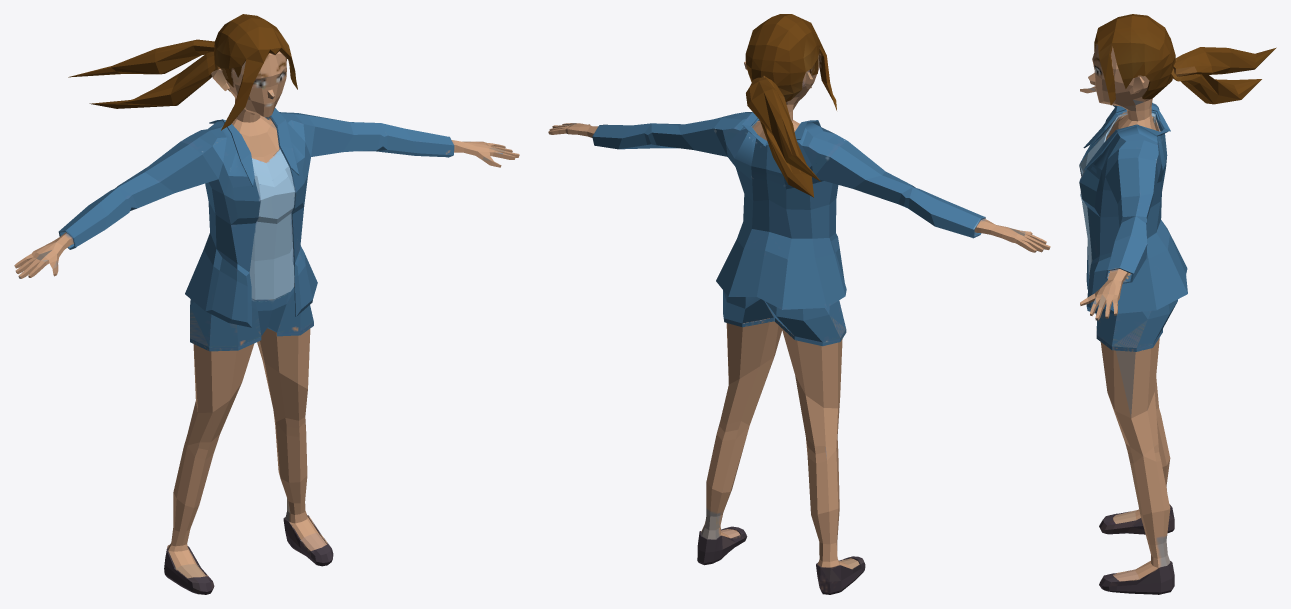
File: NN_Edited.fbx
The picture shows the model from 3 angles, left to right: view 1: azimuth 30°, elevation 25°; view 2: azimuth 150°, elevation 25°; view 3: azimuth 270°, elevation 25°; orthographic projection.
Visible parts, largest first — view 1: node_id86, node_id78, node_id91, node_id82, node_id89; view 2: node_id86, node_id78, node_id91, node_id82, node_id89; view 3: node_id86, node_id78, node_id91, node_id82, node_id89.
Boxes of the visible parts, left/top/right/bottom form: node_id86: left=58, top=108, right=454, bottom=327; node_id78: left=14, top=51, right=519, bottom=578; node_id91: left=68, top=14, right=297, bottom=130; node_id82: left=190, top=287, right=313, bottom=351; node_id89: left=164, top=515, right=333, bottom=594; node_id86: left=592, top=112, right=985, bottom=309; node_id78: left=548, top=56, right=1050, bottom=569; node_id91: left=745, top=14, right=836, bottom=197; node_id82: left=723, top=290, right=846, bottom=346; node_id89: left=697, top=526, right=865, bottom=594; node_id86: left=1079, top=102, right=1187, bottom=313; node_id78: left=1080, top=44, right=1170, bottom=581; node_id91: left=1094, top=14, right=1276, bottom=105; node_id82: left=1095, top=299, right=1177, bottom=351; node_id89: left=1099, top=504, right=1174, bottom=594.
Size of the model in its own units: 0.3243 by 0.3424 by 0.1124.
Materials: 5 (5 with a texture image).
